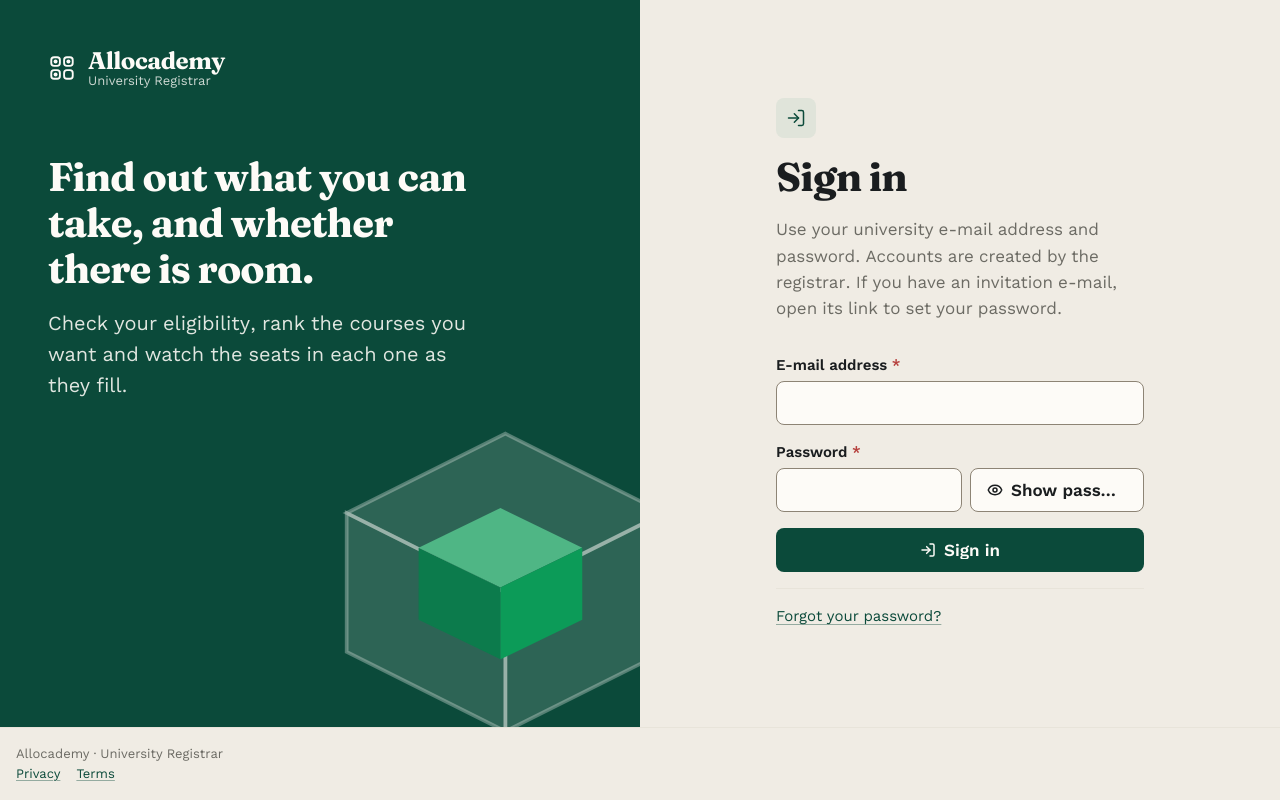
Test case: LoginPage submission › shows the server error in an alert and keeps the user on the page
This screenshot has width=1280, height=800.
Expected: the heading "Sign in" is shown, [776,152,907,201]
In the field labelled "E-mail address": coordinates (960, 403) [776,381,1144,425], type "aarav.sharma@university.edu"
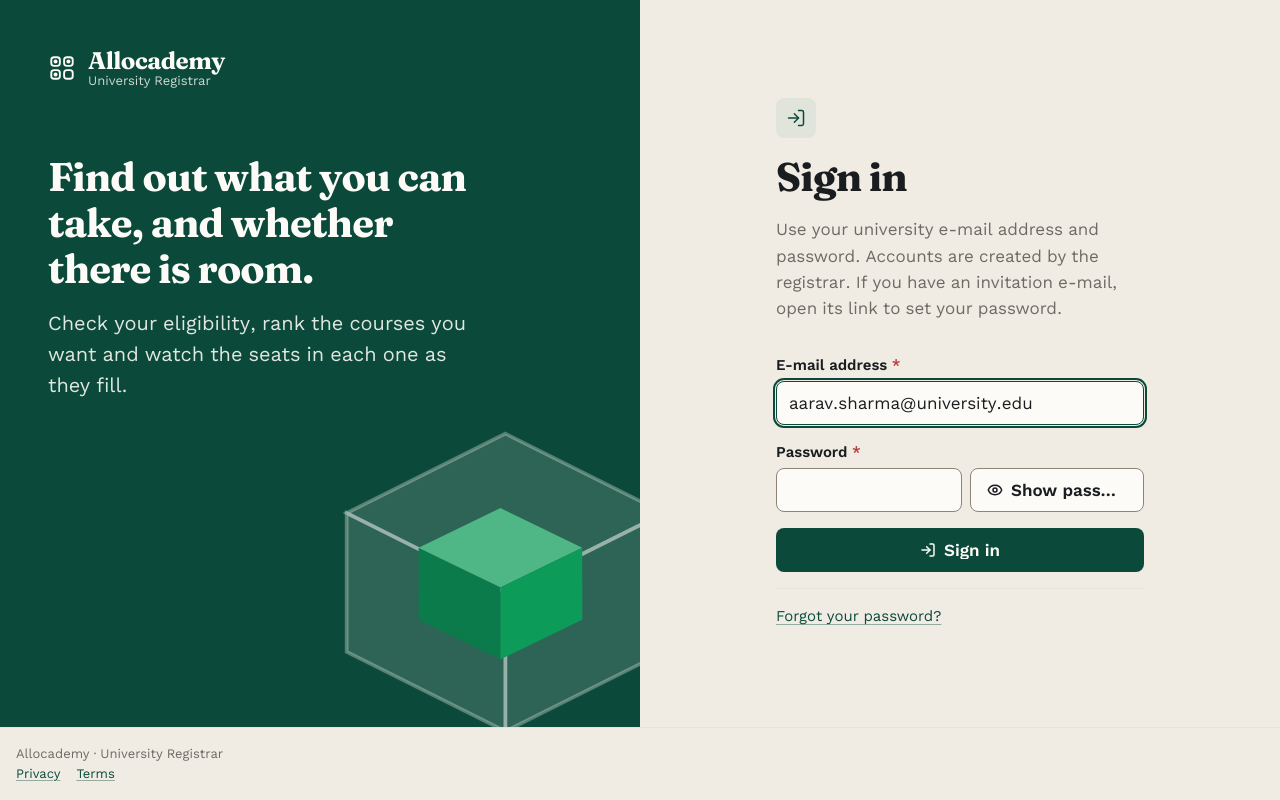
In the password field labelled "Password": coordinates (869, 490) [776,468,962,512], type "wrong"
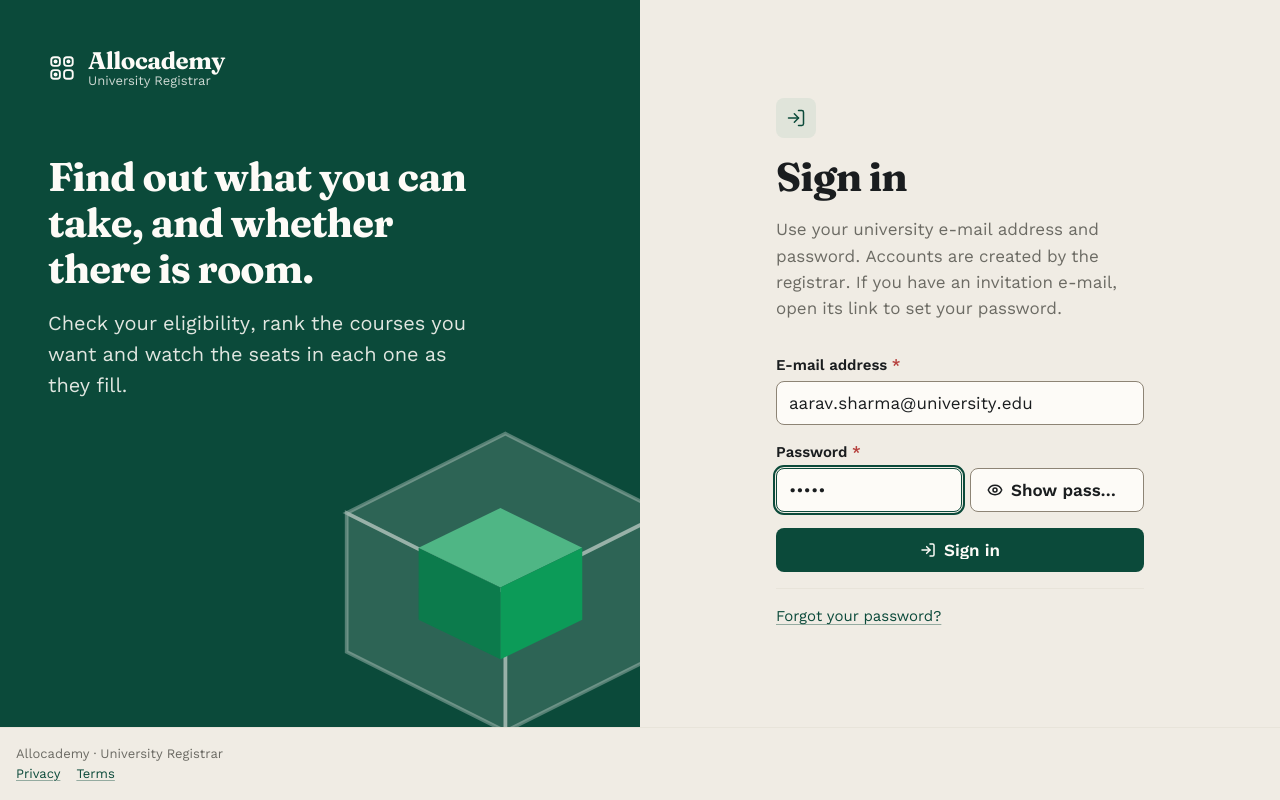
Click the button "Sign in": coordinates (960, 550) [776,528,1144,572]
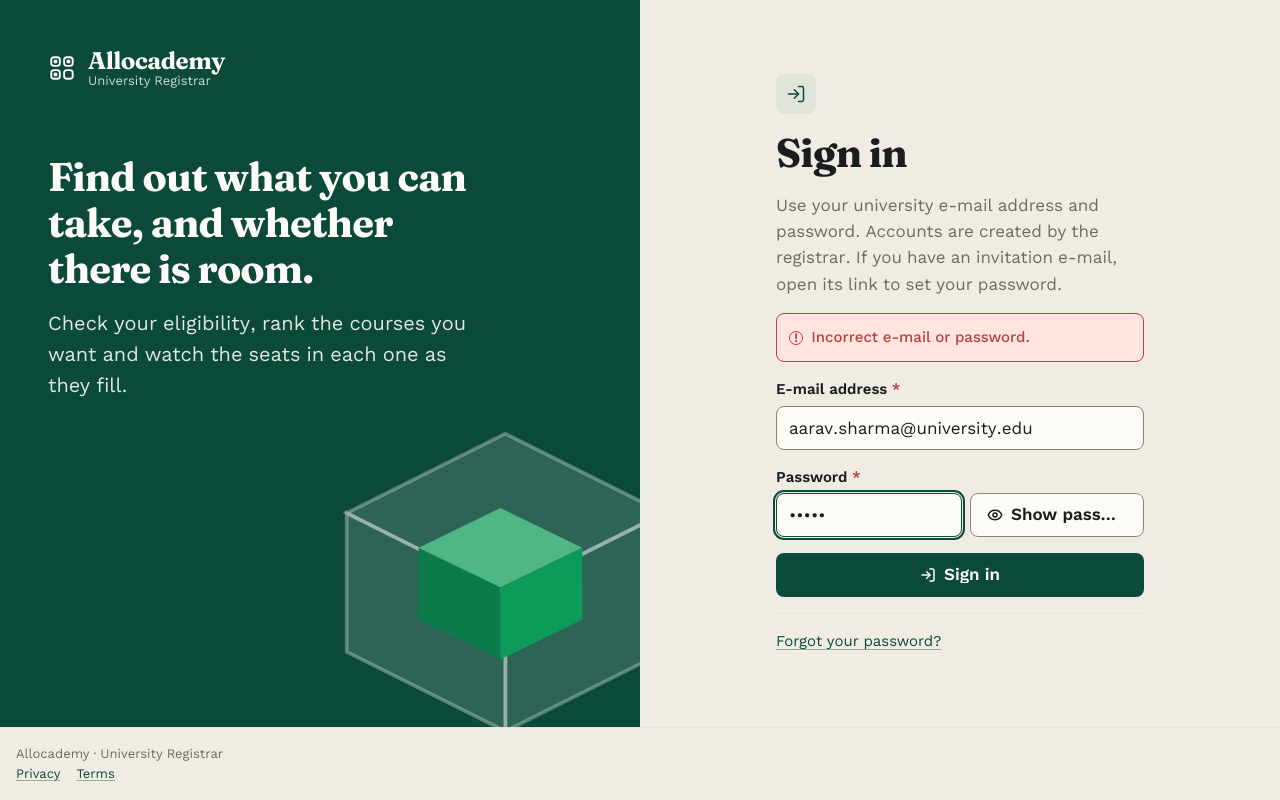
Now the message reads "Incorrect e-mail or password.", box [811,328,1030,346]
